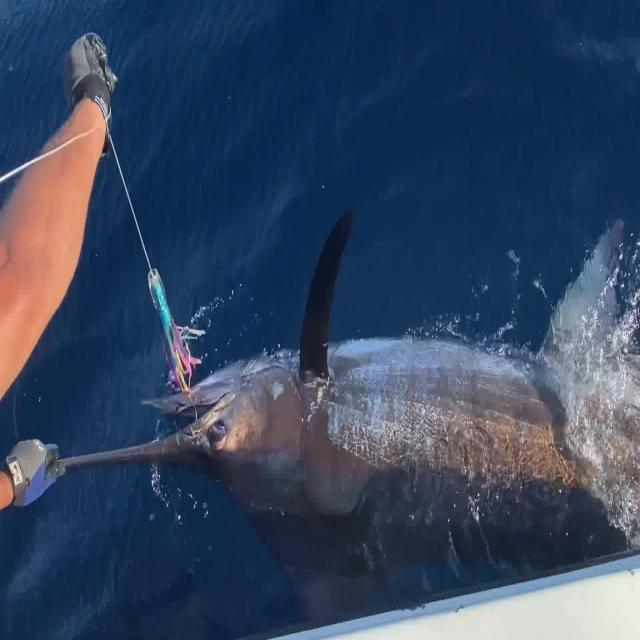Liberacion segura: (47, 209, 640, 577)
